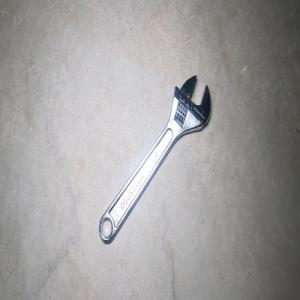Wrench: (98, 75, 211, 244)
